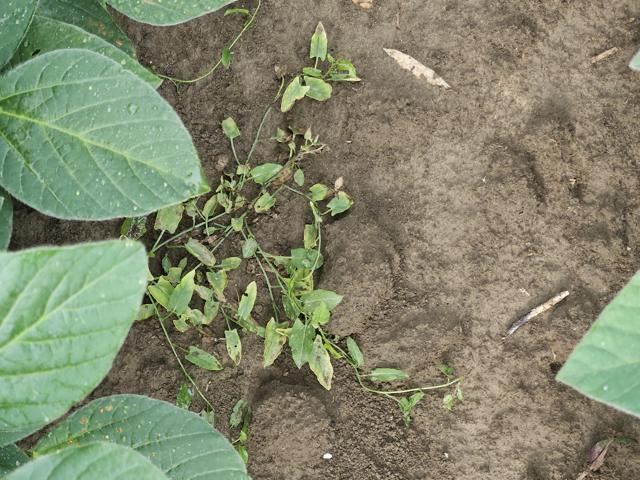bad weed: (165, 22, 454, 422)
